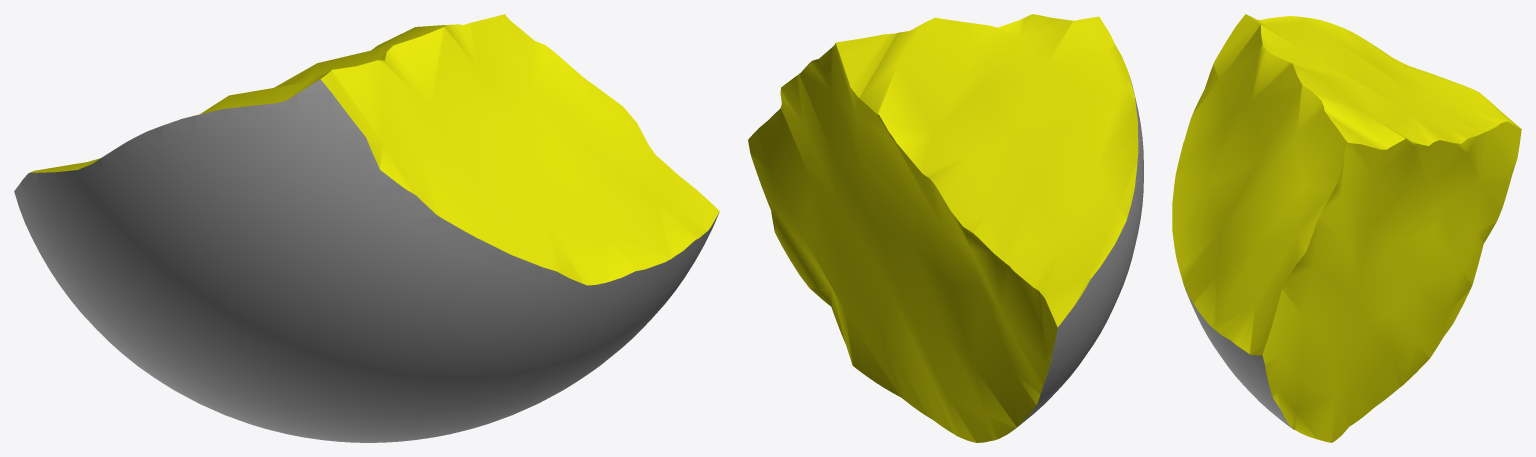
Rendered from moon_shard_2.fbx.
The picture shows the model from 3 angles, left to right: view 1: azimuth 30°, elevation 25°; view 2: azimuth 150°, elevation 25°; view 3: azimuth 270°, elevation 25°; orthographic projection. The views are drawn at different scales.
Parts seen in each view (by area): view 1: shard2; view 2: shard2; view 3: shard2.
Boxes of the visible parts, <box> form: shard2: <box>14,14,719,442</box>; shard2: <box>748,14,1143,442</box>; shard2: <box>1172,14,1521,442</box>.
Bounding box in the file's own units: 27.1 × 21.19 × 19.15.
